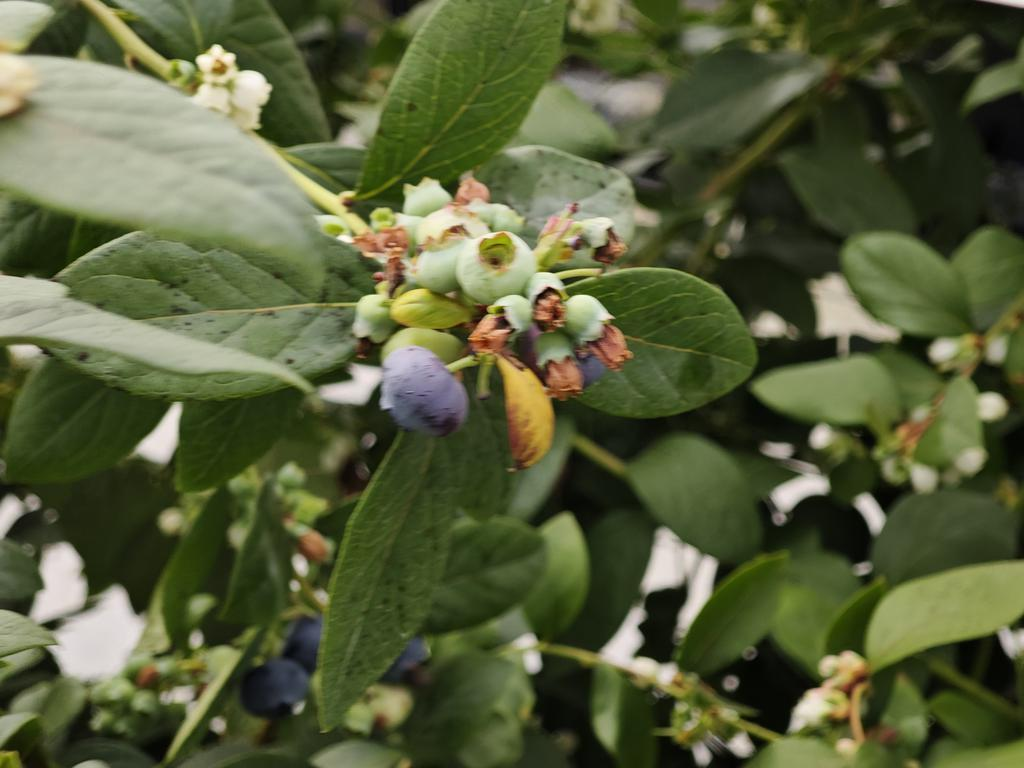RipeBlueBerry: (380, 349, 470, 435), (239, 661, 313, 722)
